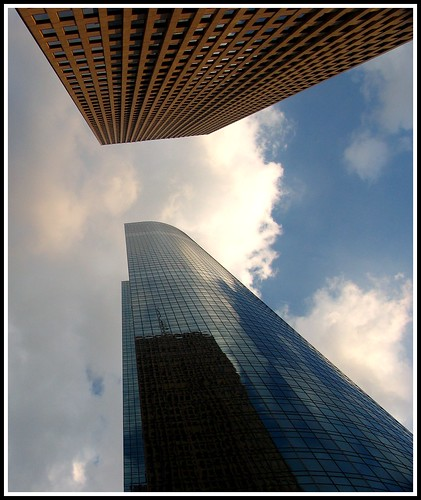building: (110, 223, 420, 500), (40, 1, 421, 151)
sky: (234, 69, 415, 407), (1, 102, 113, 487), (1, 137, 232, 248)
